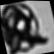correct: (0, 0, 44, 54)
